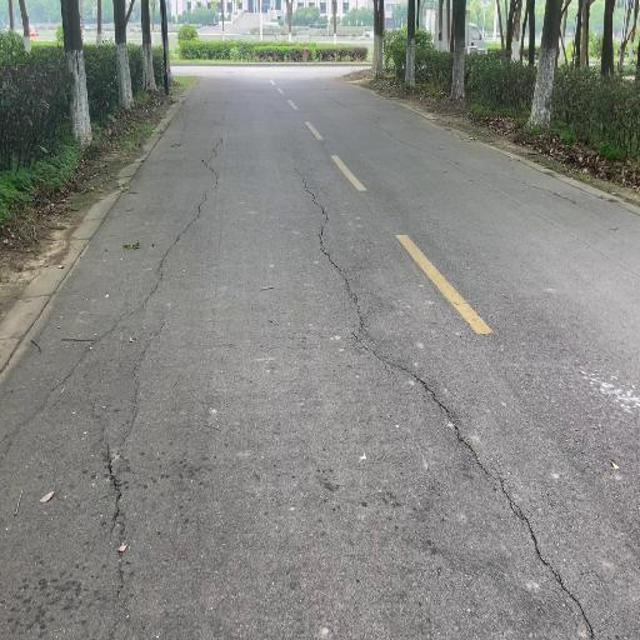Memanjang: (297, 187, 619, 640), (2, 127, 234, 473)
